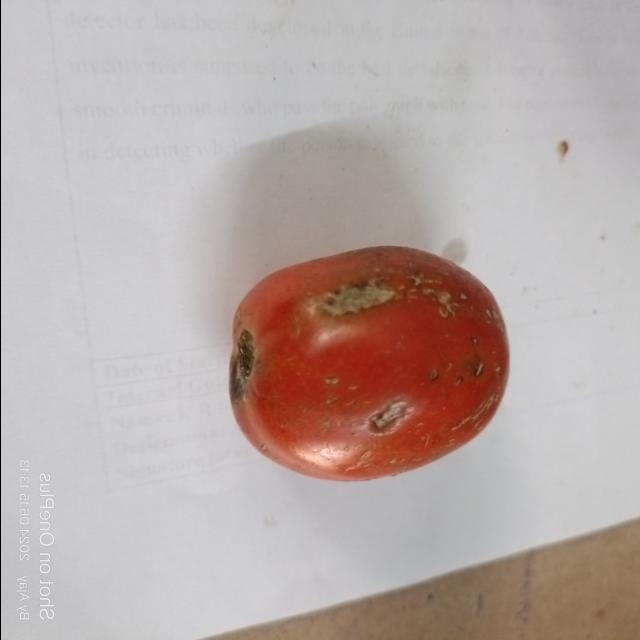Bacterial_Spot: (314, 278, 410, 316), (362, 400, 422, 430), (466, 356, 486, 381)
